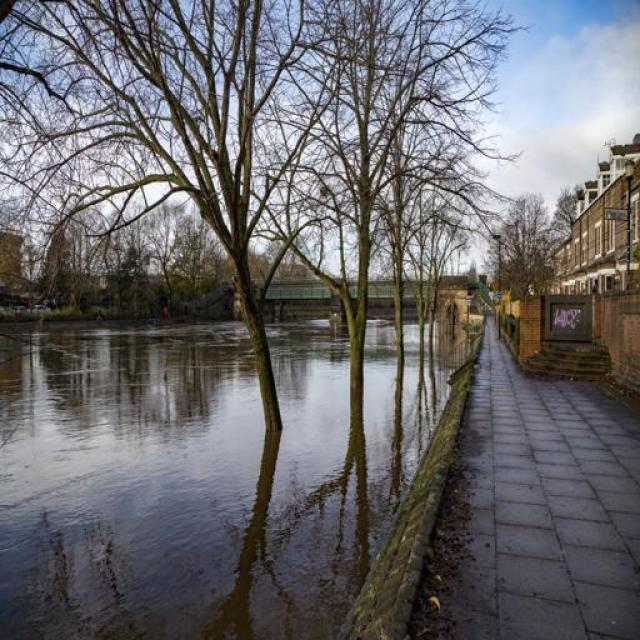puddle: (2, 323, 232, 604), (272, 319, 347, 514), (369, 326, 394, 521)
